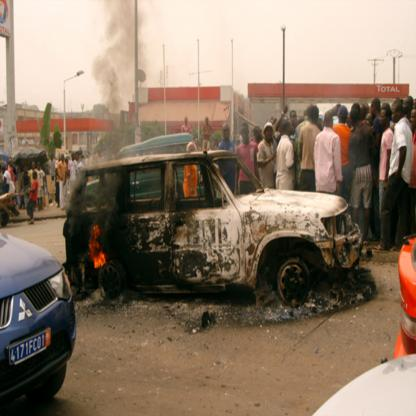Car: (64, 152, 364, 311), (1, 232, 77, 403)
